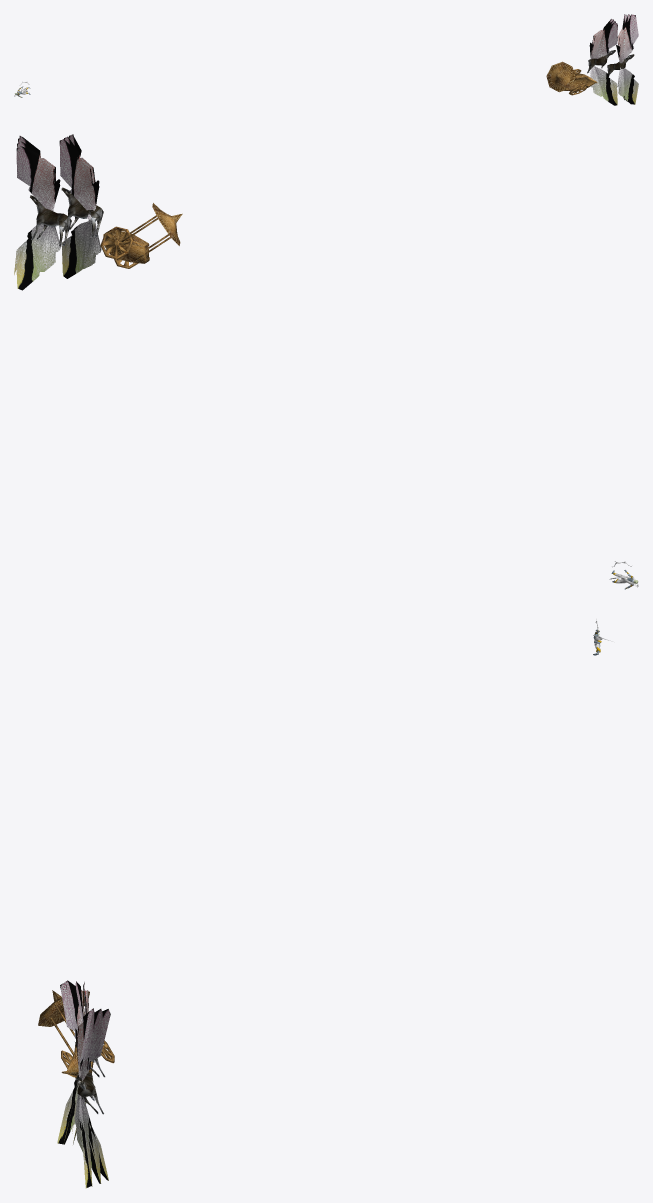
File: rama_001013.obj
3 renders of one model, top to bottom at view 1: azimuth 30°, elevation 25°; view 2: azimuth 150°, elevation 25°; view 3: azimuth 270°, elevation 25°, orthographic. The views are drawn at different scales.
Visible parts, largest first — view 1: wings_Plane.001, wings.001_Plane.000, umbrella_Sphere, chariot_Cube.001, Horse.001_objHorse_0.006, Horse.000_objHorse_0.005; view 2: wings.001_Plane.000, wings_Plane.001, umbrella_Sphere, Horse.000_objHorse_0.005, chariot_Cube.001, Horse.001_objHorse_0.006, wheelL_Cylinder.004; view 3: wings.001_Plane.000, wings_Plane.001.
Part boxes in pixels (left/top/right/bottom): wings_Plane.001: left=589, top=19, right=617, bottom=105; wings.001_Plane.000: left=616, top=14, right=638, bottom=104; umbrella_Sphere: left=546, top=61, right=575, bottom=92; chariot_Cube.001: left=563, top=73, right=597, bottom=90; Horse.001_objHorse_0.006: left=587, top=50, right=615, bottom=73; Horse.000_objHorse_0.005: left=607, top=54, right=634, bottom=74; wings.001_Plane.000: left=14, top=136, right=60, bottom=290; wings_Plane.001: left=59, top=134, right=101, bottom=278; umbrella_Sphere: left=121, top=203, right=182, bottom=261; Horse.000_objHorse_0.005: left=30, top=195, right=71, bottom=246; chariot_Cube.001: left=103, top=230, right=149, bottom=263; Horse.001_objHorse_0.006: left=61, top=187, right=103, bottom=237; wheelL_Cylinder.004: left=100, top=226, right=133, bottom=259; wings.001_Plane.000: left=74, top=1008, right=110, bottom=1188; wings_Plane.001: left=57, top=980, right=88, bottom=1144.
Bounding box in the file's own units: 86.72 × 15.38 × 43.66.
